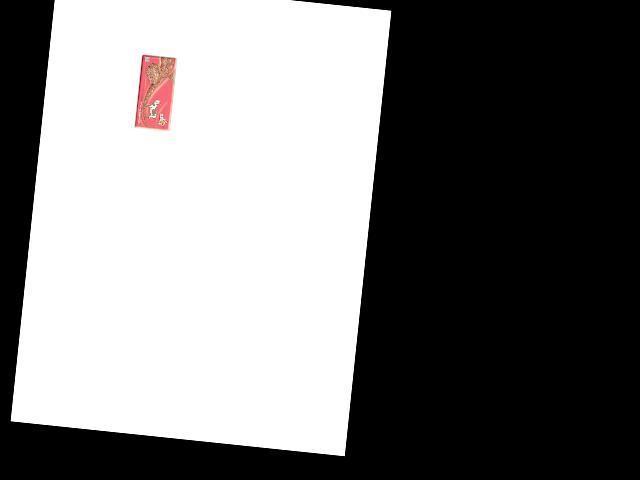chocolate: (141, 52, 184, 125)
